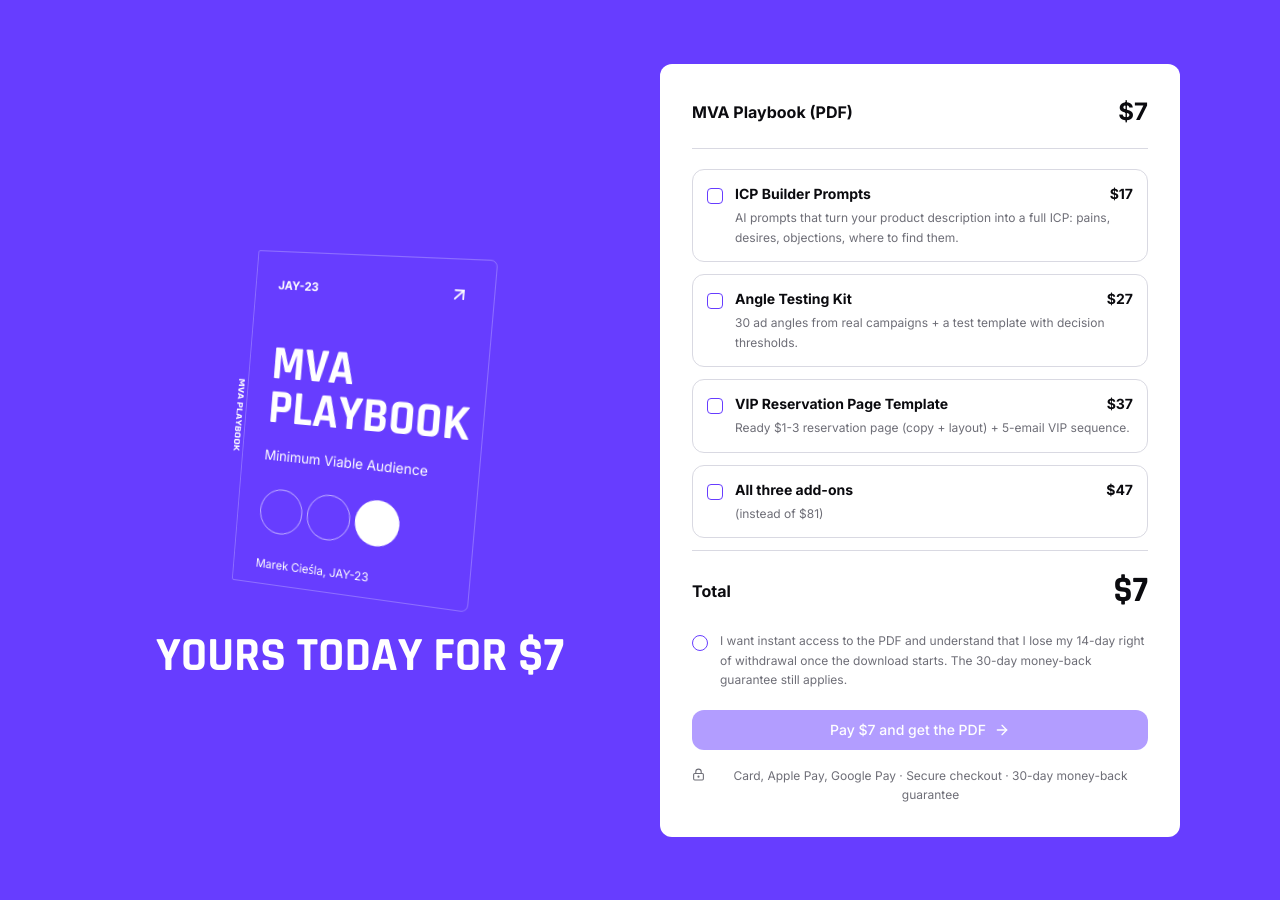
MVA Playbook orders › updates the visible total and selections
Click the checkbox named "ICP Builder Prompts": x=715, y=196 [707, 188, 723, 204]
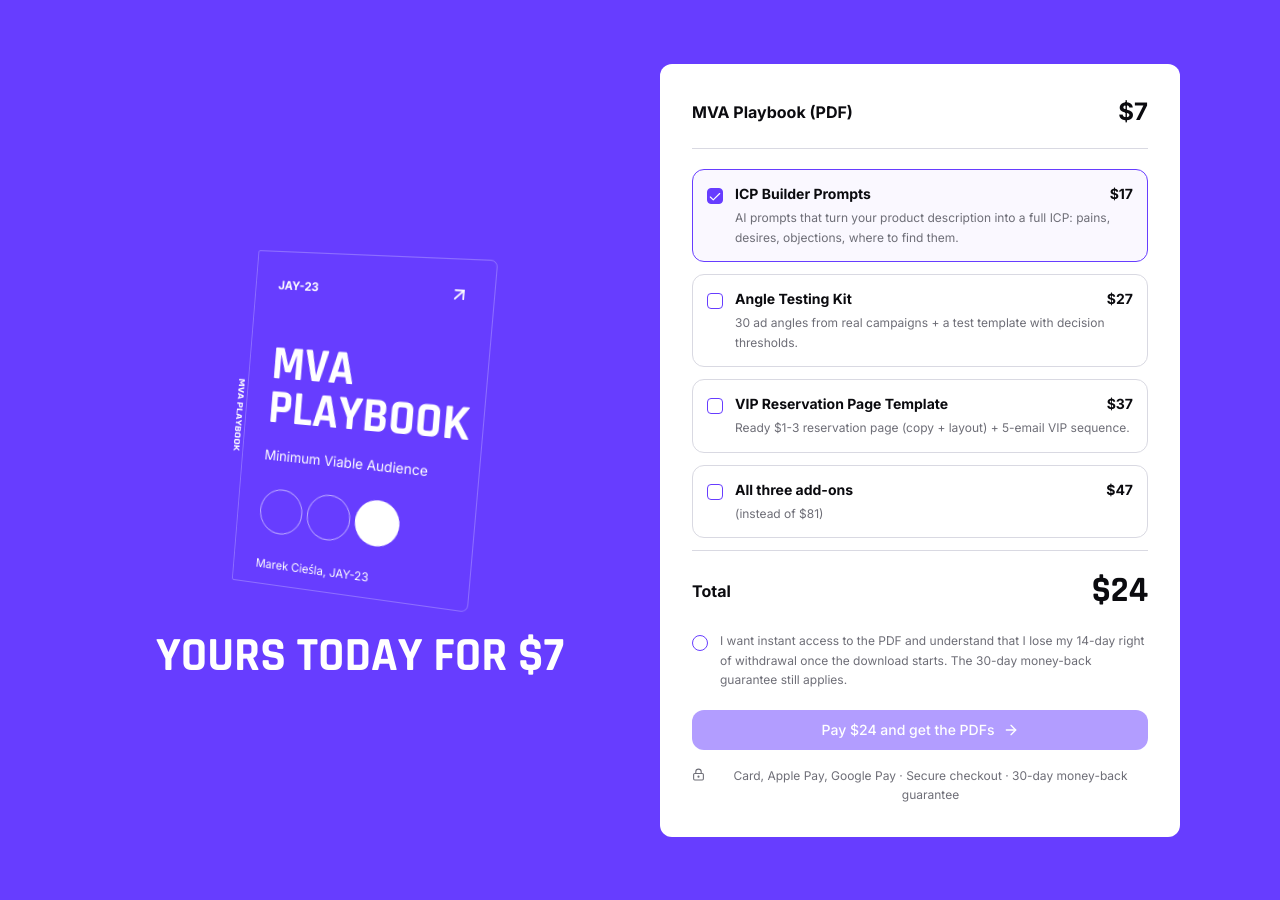
Expected: the text named "Order total" reads "$24", [1092, 571, 1148, 611]
Click the checkbox named "All three add-ons": x=715, y=492 [707, 484, 723, 500]
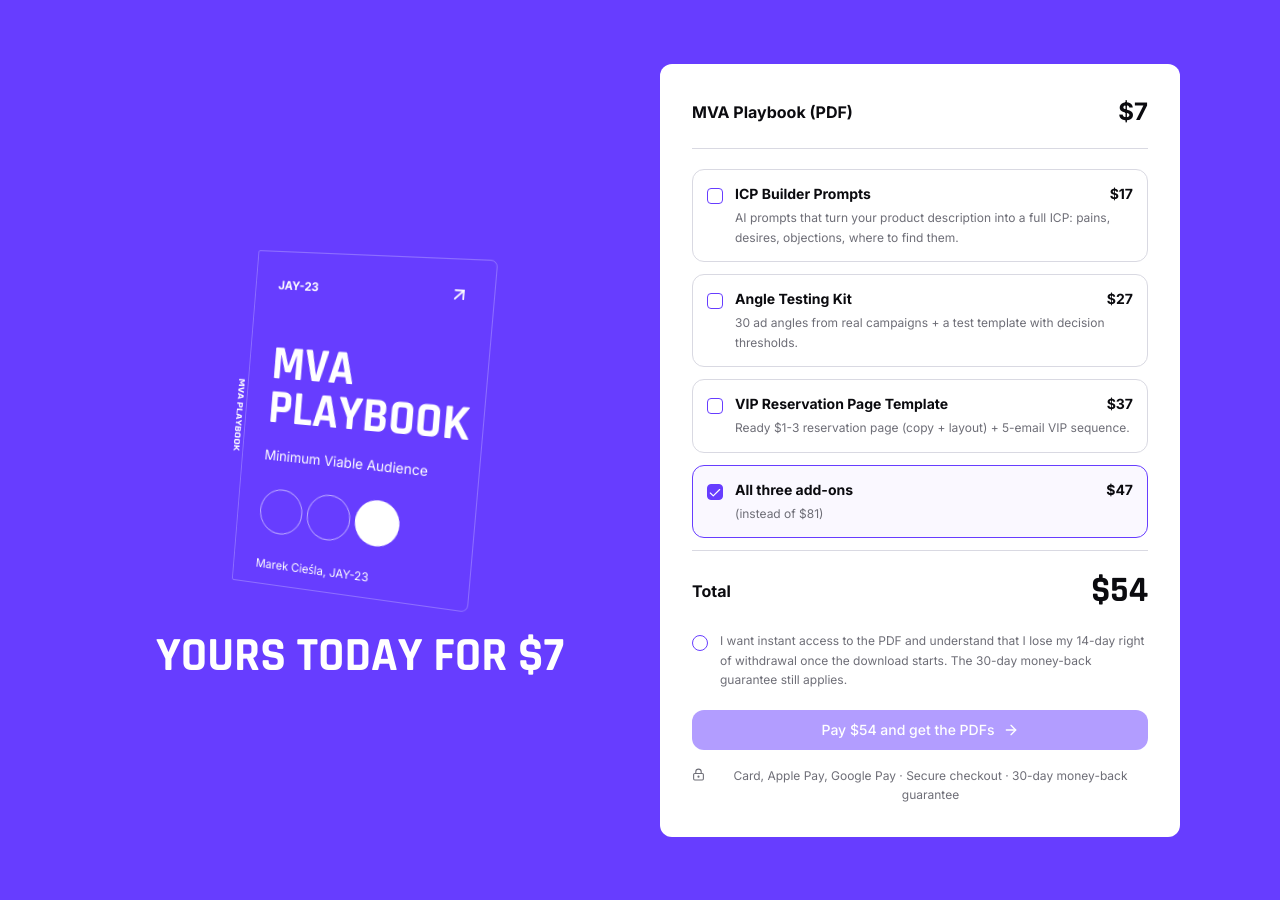
Expected: the text named "Order total" reads "$54", [1091, 571, 1148, 611]
